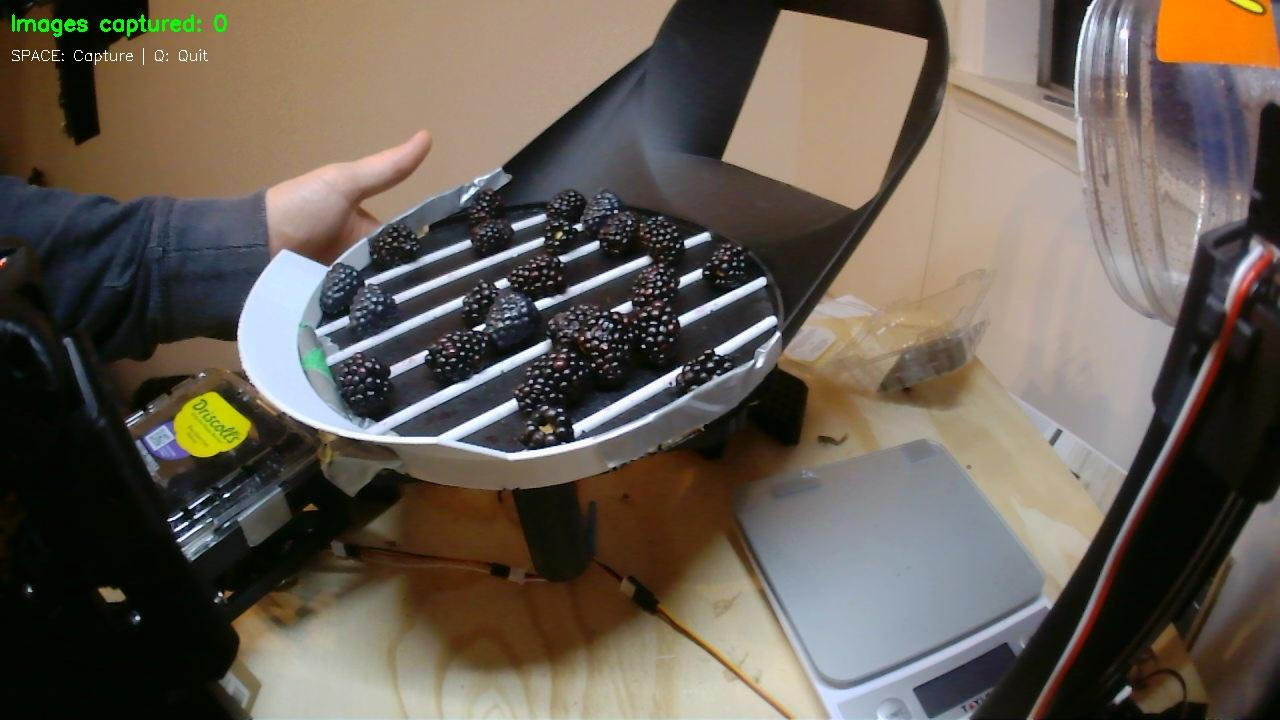berry: (513, 350, 591, 414), (577, 312, 634, 388), (336, 353, 392, 418), (424, 329, 487, 385), (484, 289, 539, 350), (633, 300, 681, 368), (518, 400, 574, 448), (508, 254, 566, 300), (349, 284, 398, 338), (546, 303, 604, 348), (675, 350, 732, 393), (639, 216, 684, 268), (319, 263, 363, 315), (369, 222, 418, 268), (631, 265, 679, 307), (703, 244, 747, 288), (581, 189, 623, 234), (597, 211, 638, 257), (461, 279, 497, 326), (470, 219, 514, 256), (543, 215, 580, 254), (467, 189, 503, 225), (546, 189, 585, 222)
